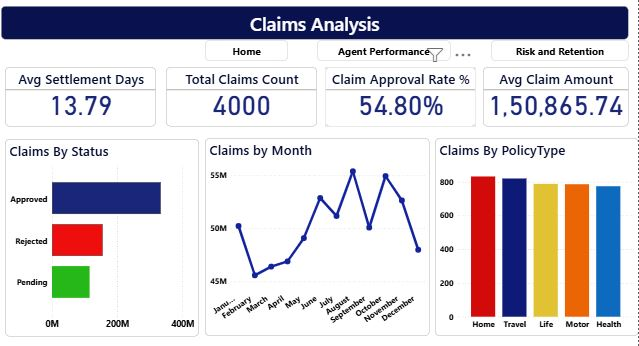

The dashboard page shown, as its layout file describes it:
{"tool":"powerbi","page":{"name":"Claim Analysis","canvas":[1280,720],"ordinal":2},"visuals":[{"type":"card","title":"Avg Claim Amount","fields":{"Values":["Fact_Claims.Avg claim amount"]},"box":[970.9,152.9,290.6,119.3],"z":0},{"type":"clusteredBarChart","title":"Claims By Status","fields":{"Category":["Fact_Claims.ClaimStatus"],"Y":["Calculations.Total Claims amount"]},"box":[13.4,295.6,388,394.8],"z":1000},{"type":"clusteredColumnChart","title":"Claims By PolicyType","fields":{"Y":["Calculations.Total claims Count"],"Category":["Dim_Policy.PolicyType"]},"box":[873.5,294,406.5,396.4],"z":2000},{"type":"textbox","box":[6.7,30.2,1254.8,67.2],"z":3000},{"type":"lineChart","title":"Claims by Month","fields":{"Y":["Calculations.Total Claims amount"],"Category":["Dim_date.Date.Variation.Date Hierarchy.Month"]},"box":[413.2,294,448.5,396.4],"z":4000},{"type":"card","title":"Claim Approval Rate %","fields":{"Values":["Fact_Claims.Claim Approval Rate"]},"box":[653.4,152.9,302.4,119.3],"z":5000},{"type":"card","title":"Total Claims Count","fields":{"Values":["Fact_Claims.Total claims Count"]},"box":[336,152.9,302.4,119.3],"z":6000},{"type":"card","title":"Avg Settlement Days","fields":{"Values":["Fact_Claims.Avg settelemt days"]},"box":[13.4,152.9,302.4,119.3],"z":7000},{"type":"actionButton","title":"Home","box":[413.2,97.4,166.3,42],"z":8000},{"type":"actionButton","title":"Home","box":[638.3,97.4,267.1,42],"z":9000},{"type":"actionButton","title":"Home","box":[986,97.4,275.5,42],"z":10000}]}

Visuals, with their boxes on the page's 1280x720 design canvas (x1, y1, x2, y2). These are canvas units, not pixel positions in the 639x346 screenshot, which may show the page scaled, cropped or inside an application window:
"Avg Claim Amount" card: 971, 153, 1262, 272
"Claims By Status" clusteredBarChart: 13, 296, 401, 690
"Claims By PolicyType" clusteredColumnChart: 874, 294, 1280, 690
textbox: 7, 30, 1262, 97
"Claims by Month" lineChart: 413, 294, 862, 690
"Claim Approval Rate %" card: 653, 153, 956, 272
"Total Claims Count" card: 336, 153, 638, 272
"Avg Settlement Days" card: 13, 153, 316, 272
"Home" actionButton: 413, 97, 580, 139
"Home" actionButton: 638, 97, 905, 139
"Home" actionButton: 986, 97, 1262, 139
